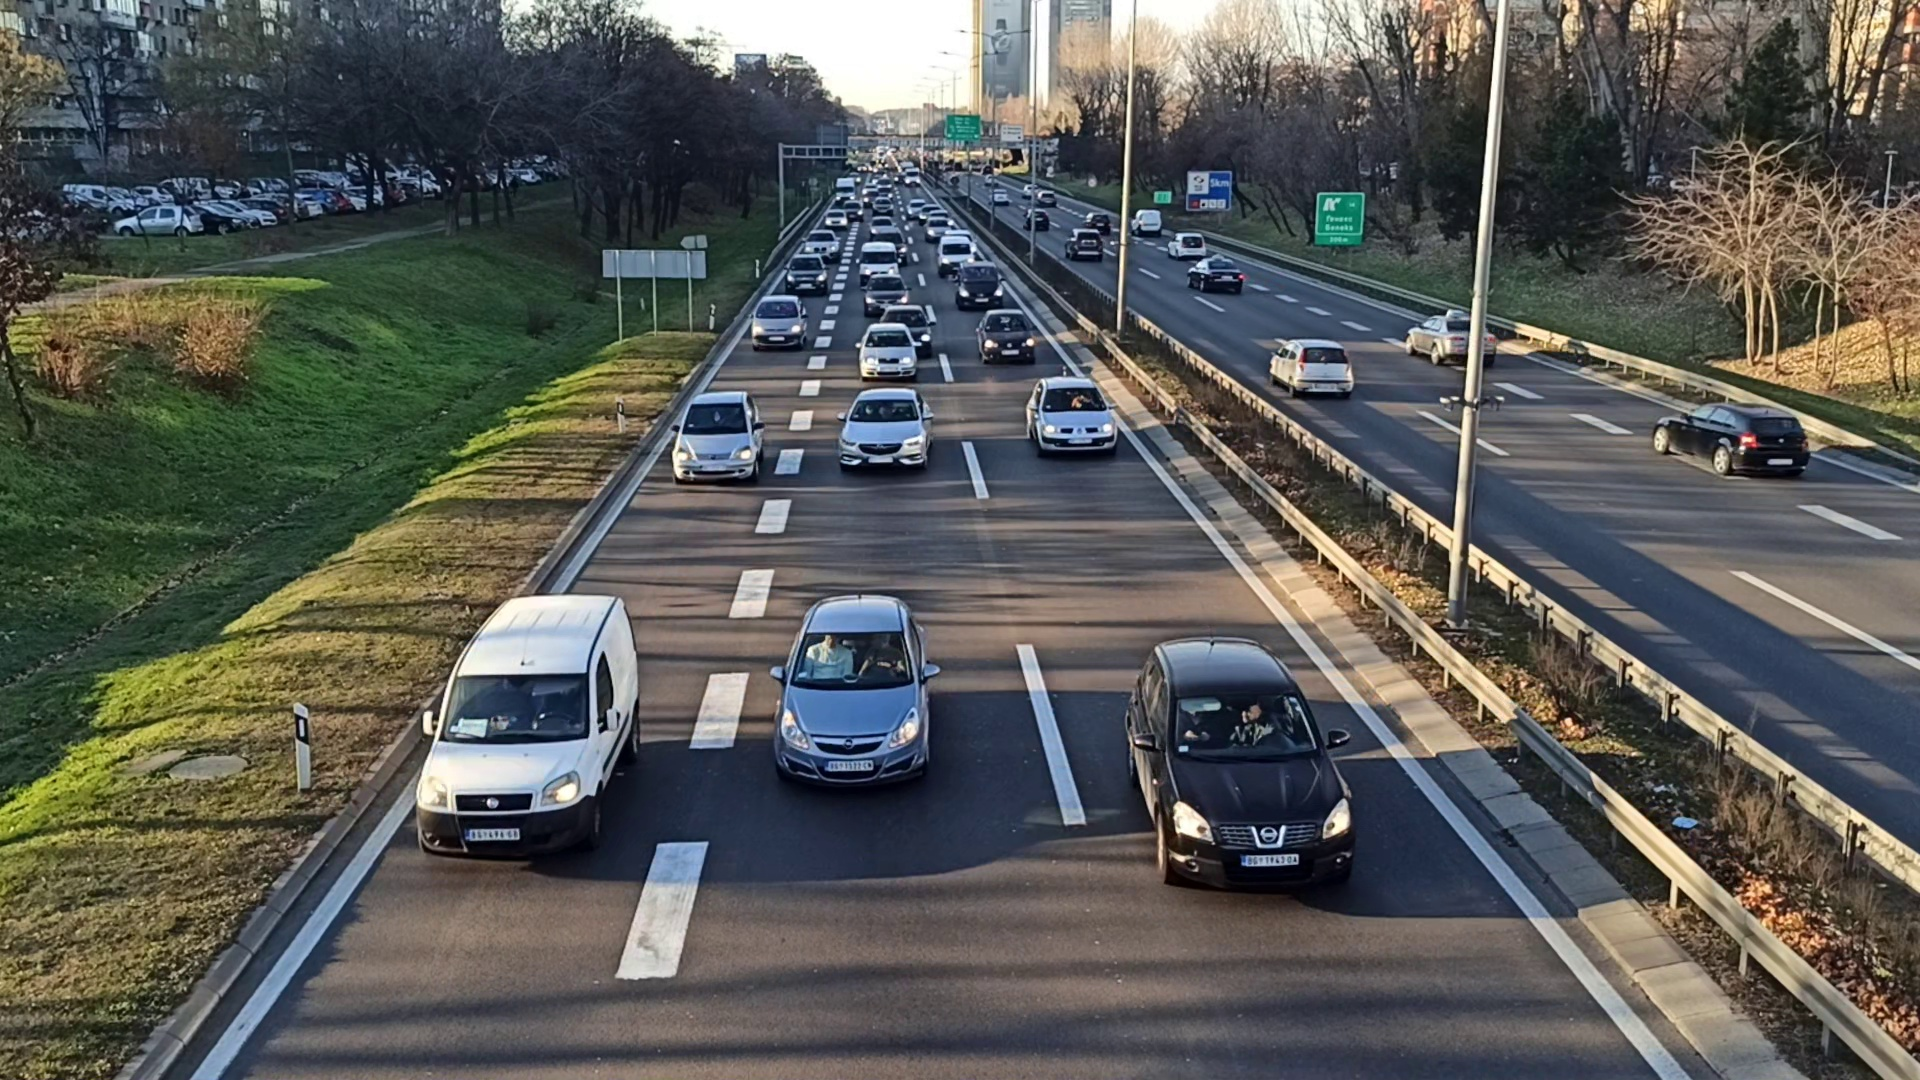car: (1122, 640, 1357, 899), (771, 593, 932, 787), (1650, 401, 1813, 479), (840, 386, 935, 484), (673, 390, 764, 488), (1025, 376, 1120, 462), (1270, 338, 1356, 404), (1404, 313, 1498, 364), (855, 324, 916, 381), (975, 309, 1033, 365), (752, 294, 807, 351), (885, 305, 934, 349), (957, 264, 1004, 309), (1185, 258, 1240, 294), (864, 274, 905, 314), (786, 255, 825, 291), (938, 235, 971, 276), (1065, 227, 1104, 258), (803, 229, 840, 261), (1164, 233, 1207, 258)
van: (410, 593, 644, 877)
